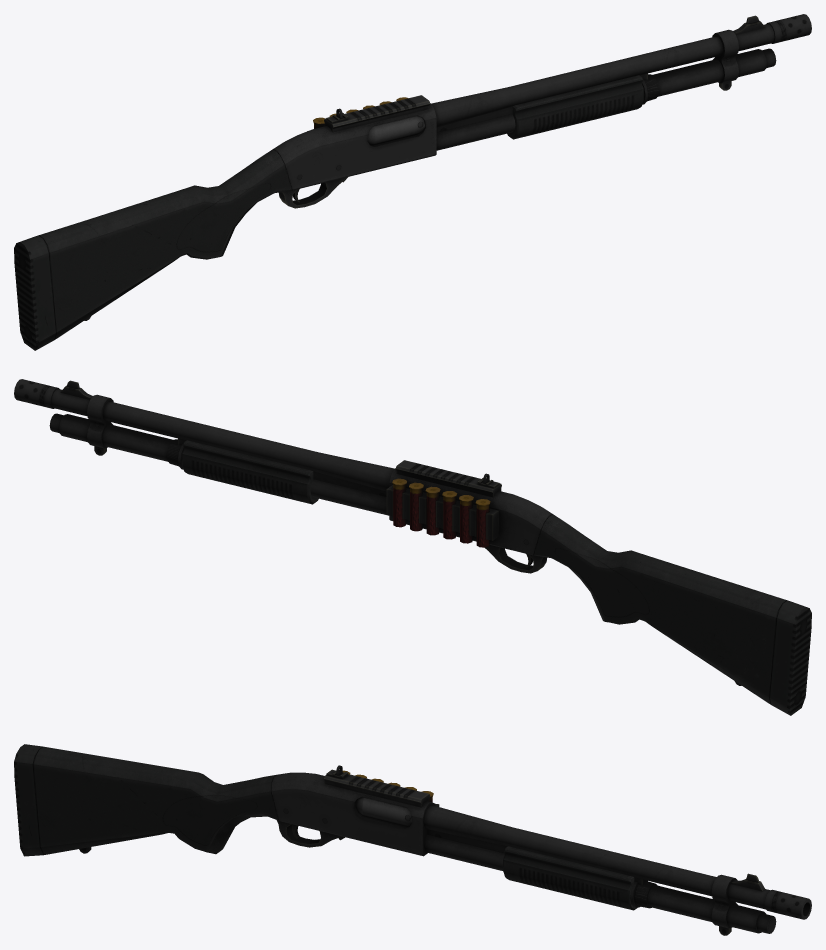
The model's file is Remington_870.fbx.
The picture shows the model from 3 angles, top to bottom: view 1: azimuth 30°, elevation 25°; view 2: azimuth 150°, elevation 25°; view 3: azimuth 330°, elevation 25°; orthographic projection.
Parts seen in each view (by area): view 1: Remington_870; view 2: Remington_870; view 3: Remington_870.
Boxes of the visible parts, box(x1,y1,x2,y2) form: Remington_870: box(14, 14, 811, 350); Remington_870: box(14, 379, 811, 715); Remington_870: box(14, 744, 811, 935).
Size of the model in its own units: 839 by 166 by 42.88.
Materials: 1 (1 with a texture image).
